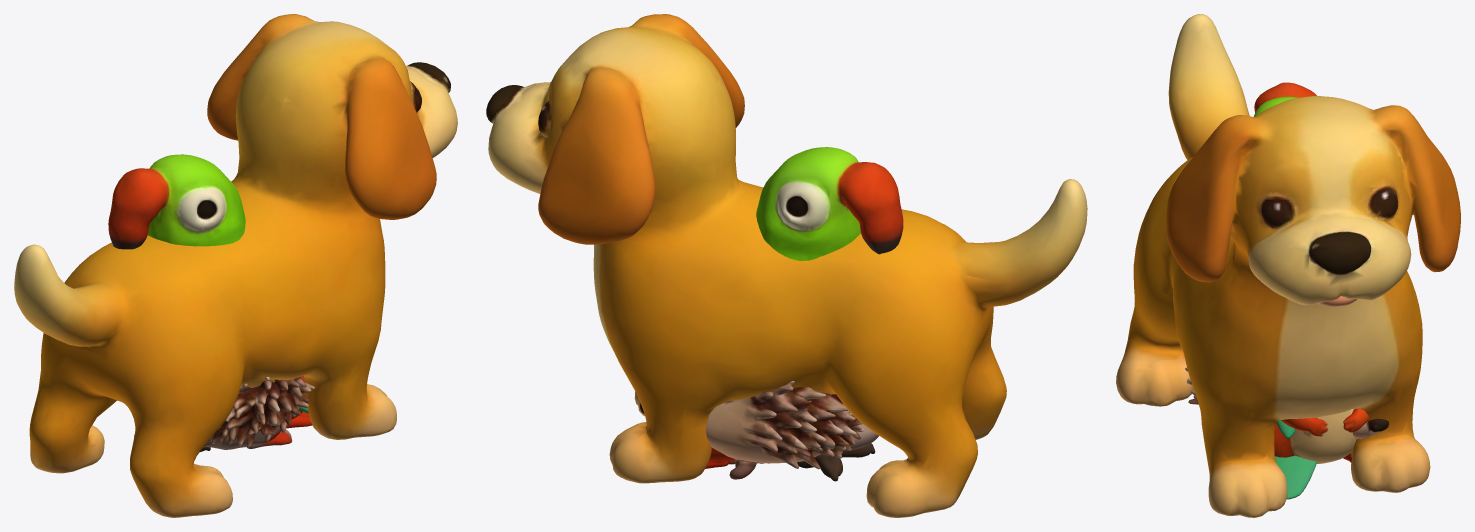
File: petitsanimaux.glb
3 views of the same model, side by side, from view 1: azimuth 30°, elevation 25°; view 2: azimuth 150°, elevation 25°; view 3: azimuth 270°, elevation 25° (orthographic). The views are drawn at different scales.
Parts seen in each view (by area): view 1: chien, perroquet, herisson, lapin; view 2: chien, perroquet, herisson; view 3: chien, ecureuil, perroquet, herisson.
Boxes of the visible parts, x1,y1,x2,y2 form: chien: (14,14,457,517); perroquet: (108,154,308,451); herisson: (208,376,314,448); lapin: (203,425,292,449); chien: (486,14,1087,517); perroquet: (756,147,903,481); herisson: (640,381,863,479); chien: (1116,14,1460,517); ecureuil: (1274,408,1369,463); perroquet: (1253,82,1317,499); herisson: (1185,367,1388,439).
Size of the model in its own units: 0.7 by 0.5011 by 0.3946.
Materials: 2 (2 with a texture image).
